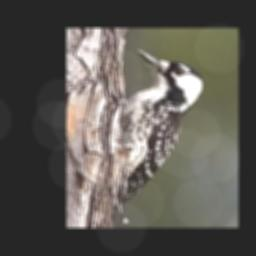Woodpecker: (109, 48, 208, 204)
